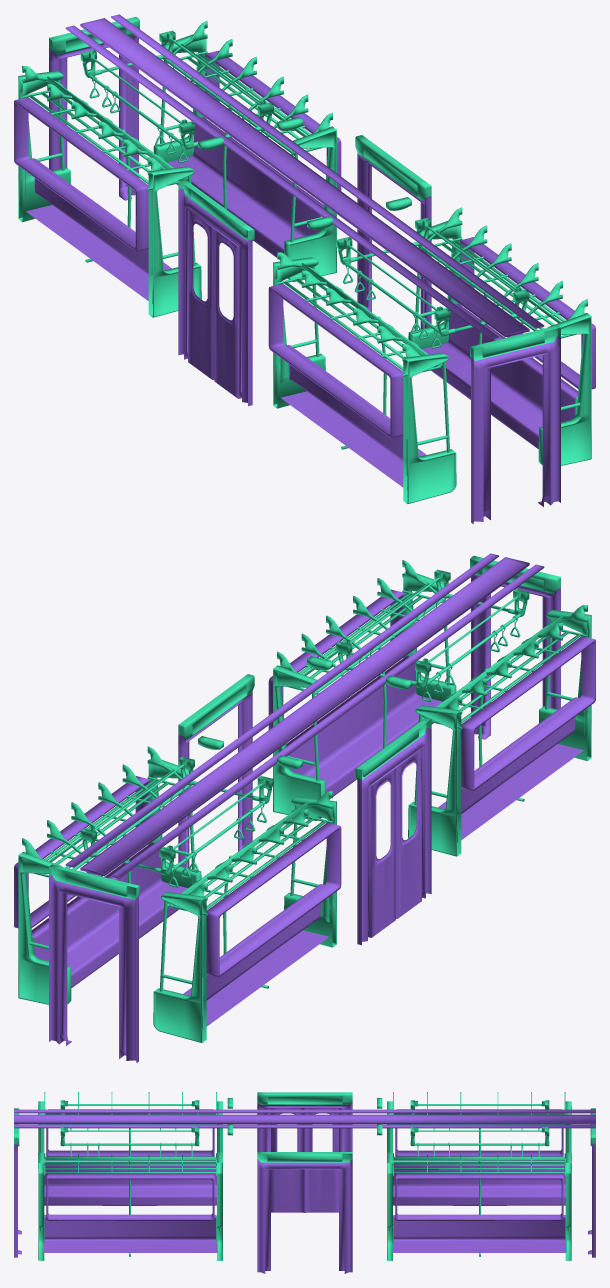
File: SM_RearWagonProps.fbx
The picture shows the model from 3 angles, top to bottom: view 1: azimuth 30°, elevation 25°; view 2: azimuth 150°, elevation 25°; view 3: azimuth 270°, elevation 25°; orthographic projection. The views are drawn at different scales.
Visible parts, largest first — view 1: BackCabinProps_low.001, BackCabinProps_low; view 2: BackCabinProps_low.001, BackCabinProps_low; view 3: BackCabinProps_low.001, BackCabinProps_low.
Part boxes in pixels (x1,y1,x2,y2): BackCabinProps_low.001: [14, 14, 595, 523]; BackCabinProps_low: [18, 16, 591, 503]; BackCabinProps_low.001: [14, 553, 595, 1062]; BackCabinProps_low: [18, 555, 591, 1042]; BackCabinProps_low.001: [14, 1102, 595, 1273]; BackCabinProps_low: [14, 1092, 595, 1260].
Bounding box in the file's own units: 2.77 × 2.44 × 10.01.
